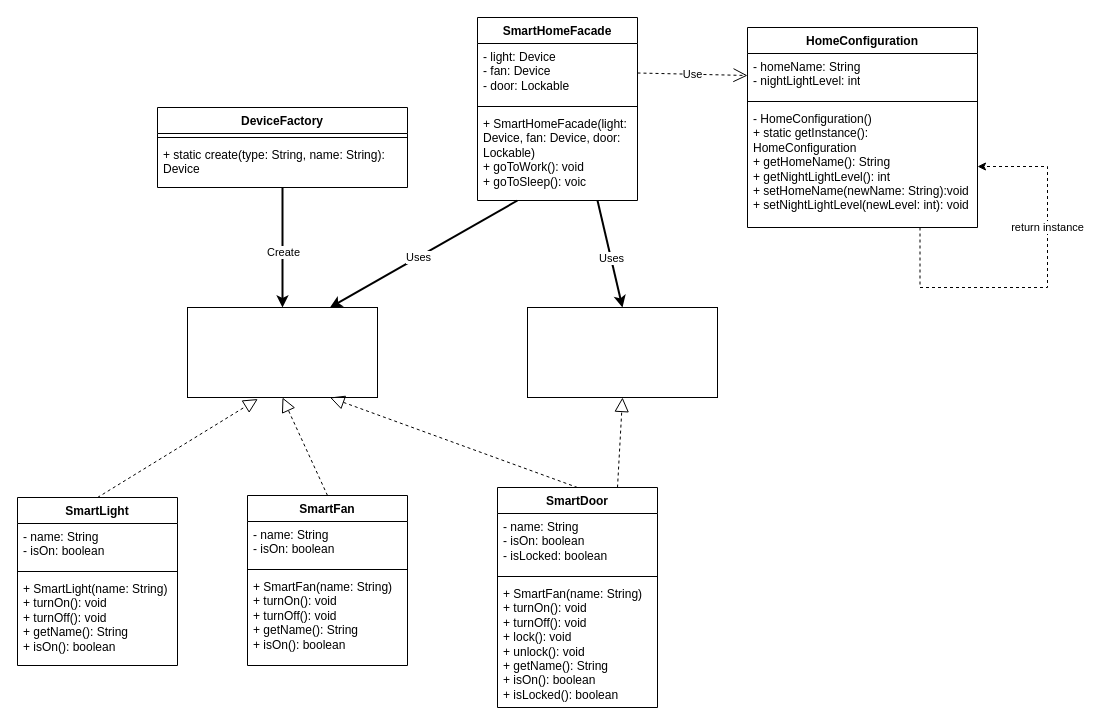
This 1101x728 diagram has some shape labels left out. Each missing label, with the centre of its shape:
"<<Interface>> Device + turnOn(): void + turnOff(): void" belongs at (x=282, y=352).
"<<Interface>> Lockable + lock(): void + unlock(): void" belongs at (x=622, y=352).
